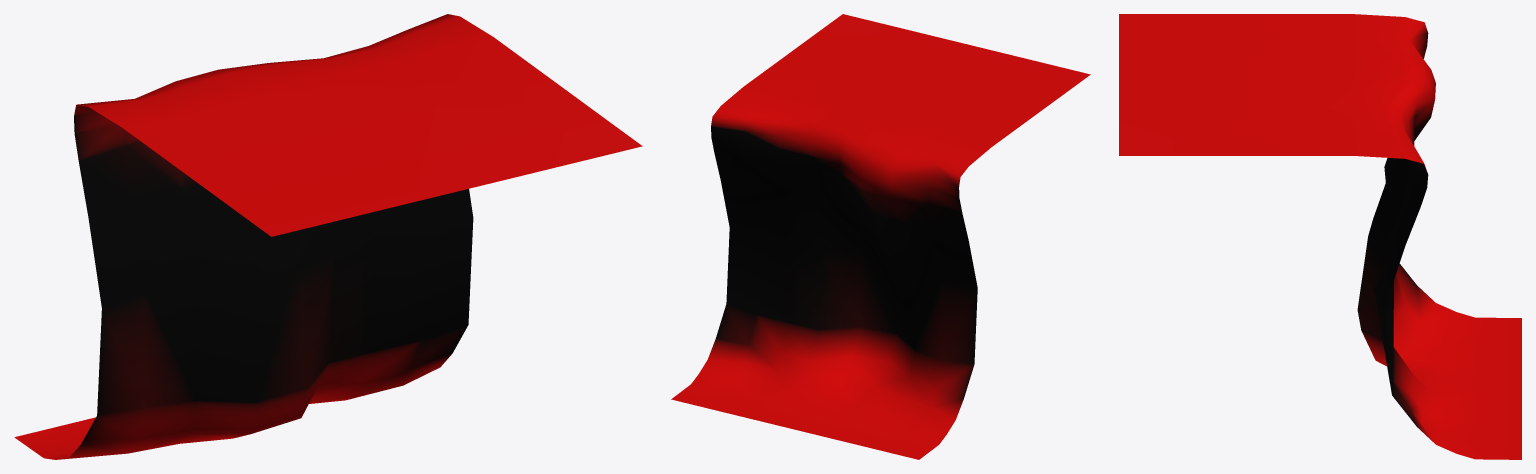
The model's file is GroundCliff00D 1M Background.fbx.
The picture shows the model from 3 angles, left to right: view 1: azimuth 30°, elevation 25°; view 2: azimuth 150°, elevation 25°; view 3: azimuth 270°, elevation 25°; orthographic projection. The views are drawn at different scales.
Parts seen in each view (by area): view 1: GroundCliff00D 1M Background; view 2: GroundCliff00D 1M Background; view 3: GroundCliff00D 1M Background.
Boxes of the visible parts, <box> form: GroundCliff00D 1M Background: <box>14,14,642,459</box>; GroundCliff00D 1M Background: <box>671,14,1090,459</box>; GroundCliff00D 1M Background: <box>1119,14,1521,459</box>.
Size of the model in its own units: 1 by 1 by 1.2.
